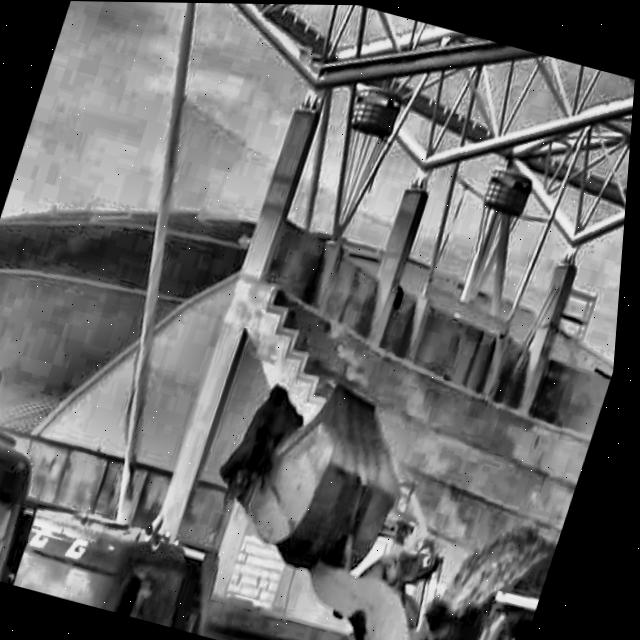buldozerpayloadergrader: (178, 357, 599, 640)
dump_truck: (1, 479, 410, 640)
excavator: (0, 0, 133, 534)
